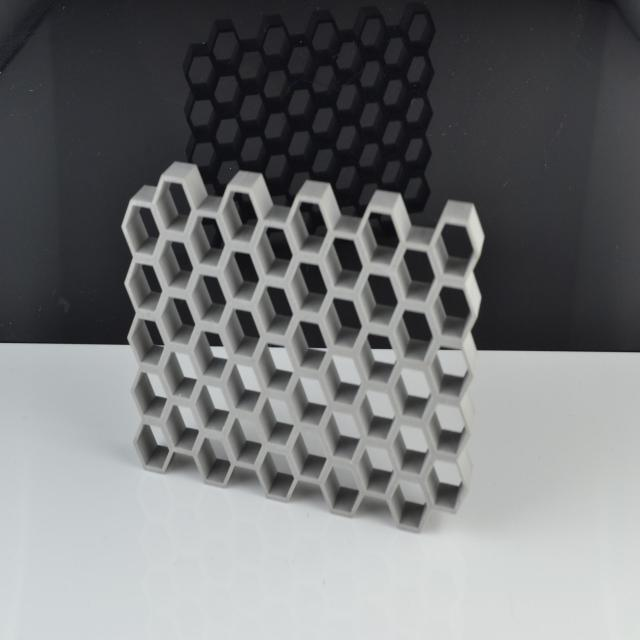Without deffect: (111, 131, 484, 548)
